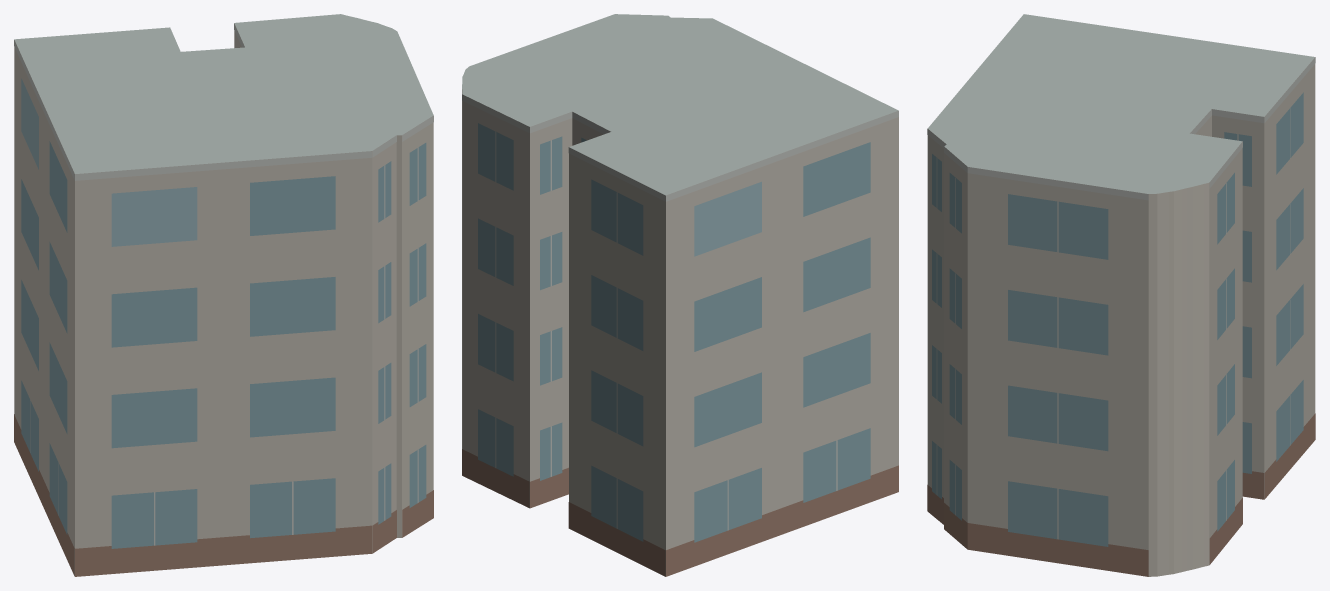
The model's file is survey-upis-32803409.glb.
3 renders of one model, left to right at view 1: azimuth 30°, elevation 25°; view 2: azimuth 150°, elevation 25°; view 3: azimuth 270°, elevation 25°, orthographic. The views are drawn at different scales.
Parts seen in each view (by area): view 1: survey-upis-32803409.tmp; view 2: survey-upis-32803409.tmp; view 3: survey-upis-32803409.tmp.
Boxes of the visible parts, <box> form: survey-upis-32803409.tmp: <box>14,14,433,576</box>; survey-upis-32803409.tmp: <box>462,14,898,576</box>; survey-upis-32803409.tmp: <box>927,14,1315,576</box>.
Bounding box in the file's own units: 14.64 × 14.5 × 13.32.
